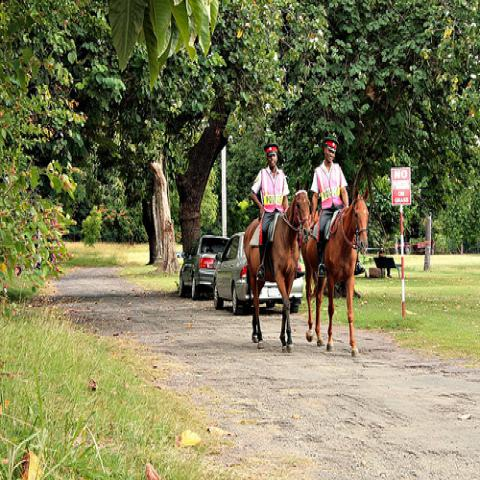car: (216, 233, 302, 317), (178, 234, 229, 301)
